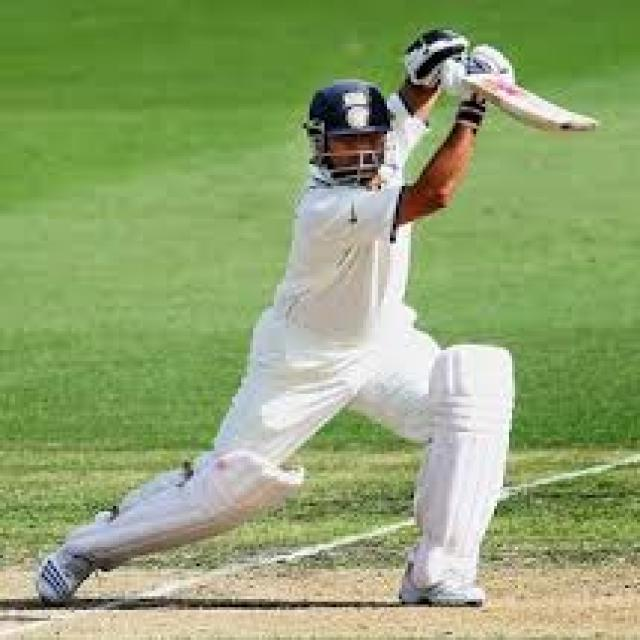toe: (542, 105, 602, 142)
